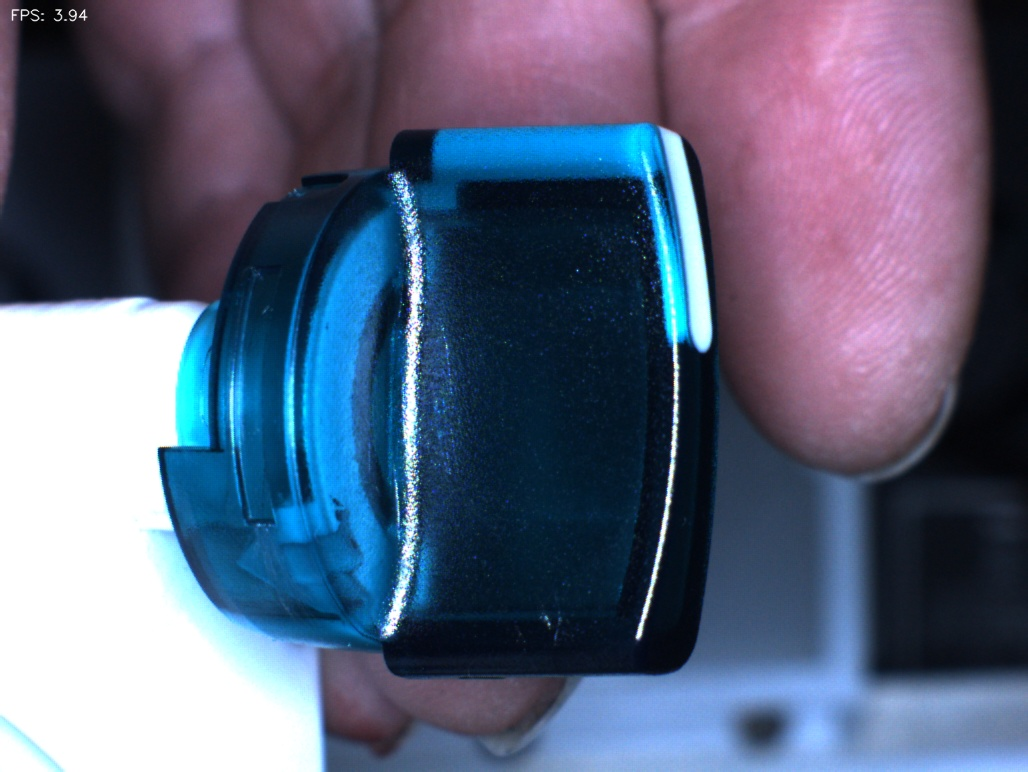Givrage: (402, 312, 489, 494)
